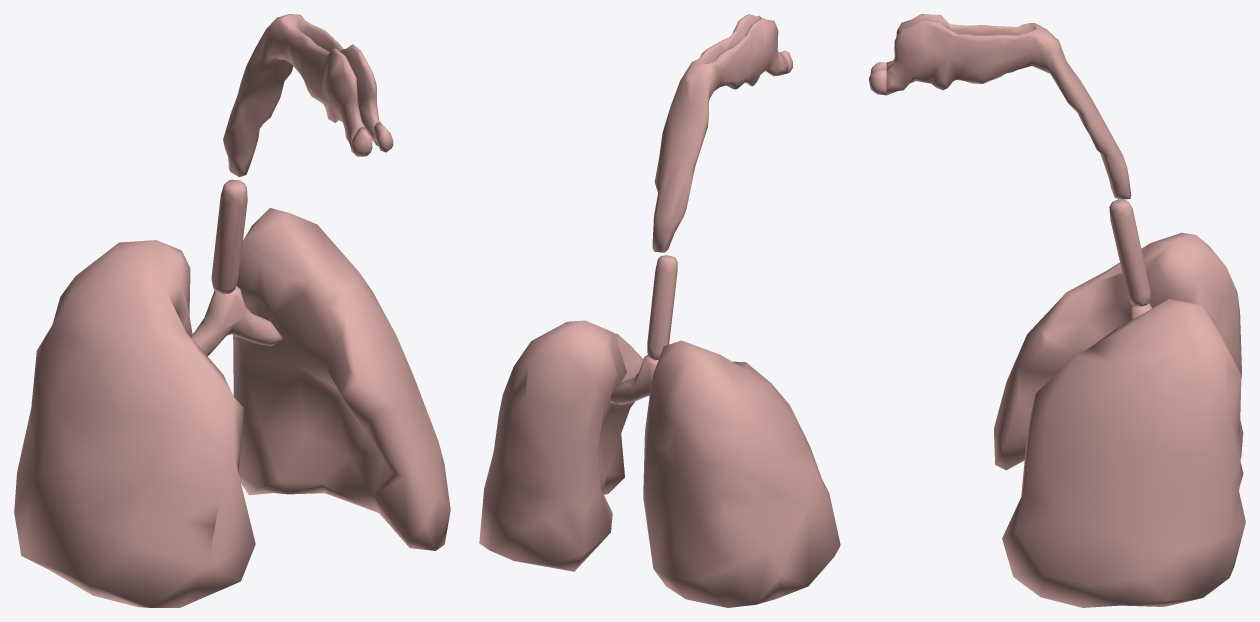
The model's file is pediatric_infant_female.respiratory.LOD2.glb.
3 renders of one model, left to right at view 1: azimuth 30°, elevation 25°; view 2: azimuth 150°, elevation 25°; view 3: azimuth 270°, elevation 25°, orthographic. The views are drawn at different scales.
Visible parts, largest first — view 1: PEDIATRIC.INFANT.FEMALE.RESPIRATORY.LUNG.R, PEDIATRIC.INFANT.FEMALE.RESPIRATORY.LUNG.L, PEDIATRIC.INFANT.FEMALE.RESPIRATORY.ET2, PEDIATRIC.INFANT.FEMALE.RESPIRATORY.BB1, PEDIATRIC.INFANT.FEMALE.RESPIRATORY.TRACHEA, PEDIATRIC.INFANT.FEMALE.RESPIRATORY.ET1; view 2: PEDIATRIC.INFANT.FEMALE.RESPIRATORY.LUNG.R, PEDIATRIC.INFANT.FEMALE.RESPIRATORY.LUNG.L, PEDIATRIC.INFANT.FEMALE.RESPIRATORY.ET2, PEDIATRIC.INFANT.FEMALE.RESPIRATORY.TRACHEA, PEDIATRIC.INFANT.FEMALE.RESPIRATORY.BB1; view 3: PEDIATRIC.INFANT.FEMALE.RESPIRATORY.LUNG.L, PEDIATRIC.INFANT.FEMALE.RESPIRATORY.LUNG.R, PEDIATRIC.INFANT.FEMALE.RESPIRATORY.ET2, PEDIATRIC.INFANT.FEMALE.RESPIRATORY.TRACHEA, PEDIATRIC.INFANT.FEMALE.RESPIRATORY.ET1.
Part boxes in pixels (<box>): PEDIATRIC.INFANT.FEMALE.RESPIRATORY.LUNG.R: <box>14,240,255,607</box>; PEDIATRIC.INFANT.FEMALE.RESPIRATORY.LUNG.L: <box>233,208,450,550</box>; PEDIATRIC.INFANT.FEMALE.RESPIRATORY.ET2: <box>223,14,381,177</box>; PEDIATRIC.INFANT.FEMALE.RESPIRATORY.BB1: <box>191,286,282,356</box>; PEDIATRIC.INFANT.FEMALE.RESPIRATORY.TRACHEA: <box>211,179,247,294</box>; PEDIATRIC.INFANT.FEMALE.RESPIRATORY.ET1: <box>351,122,393,156</box>; PEDIATRIC.INFANT.FEMALE.RESPIRATORY.LUNG.R: <box>643,340,840,607</box>; PEDIATRIC.INFANT.FEMALE.RESPIRATORY.LUNG.L: <box>479,320,643,571</box>; PEDIATRIC.INFANT.FEMALE.RESPIRATORY.ET2: <box>652,14,788,252</box>; PEDIATRIC.INFANT.FEMALE.RESPIRATORY.TRACHEA: <box>647,255,677,360</box>; PEDIATRIC.INFANT.FEMALE.RESPIRATORY.BB1: <box>610,355,658,404</box>; PEDIATRIC.INFANT.FEMALE.RESPIRATORY.LUNG.L: <box>1002,299,1245,607</box>; PEDIATRIC.INFANT.FEMALE.RESPIRATORY.LUNG.R: <box>993,232,1243,470</box>; PEDIATRIC.INFANT.FEMALE.RESPIRATORY.ET2: <box>886,14,1131,199</box>; PEDIATRIC.INFANT.FEMALE.RESPIRATORY.TRACHEA: <box>1109,199,1150,306</box>; PEDIATRIC.INFANT.FEMALE.RESPIRATORY.ET1: <box>869,62,886,95</box>.
Size of the model in its own units: 0.1374 by 0.1929 by 0.1284.
